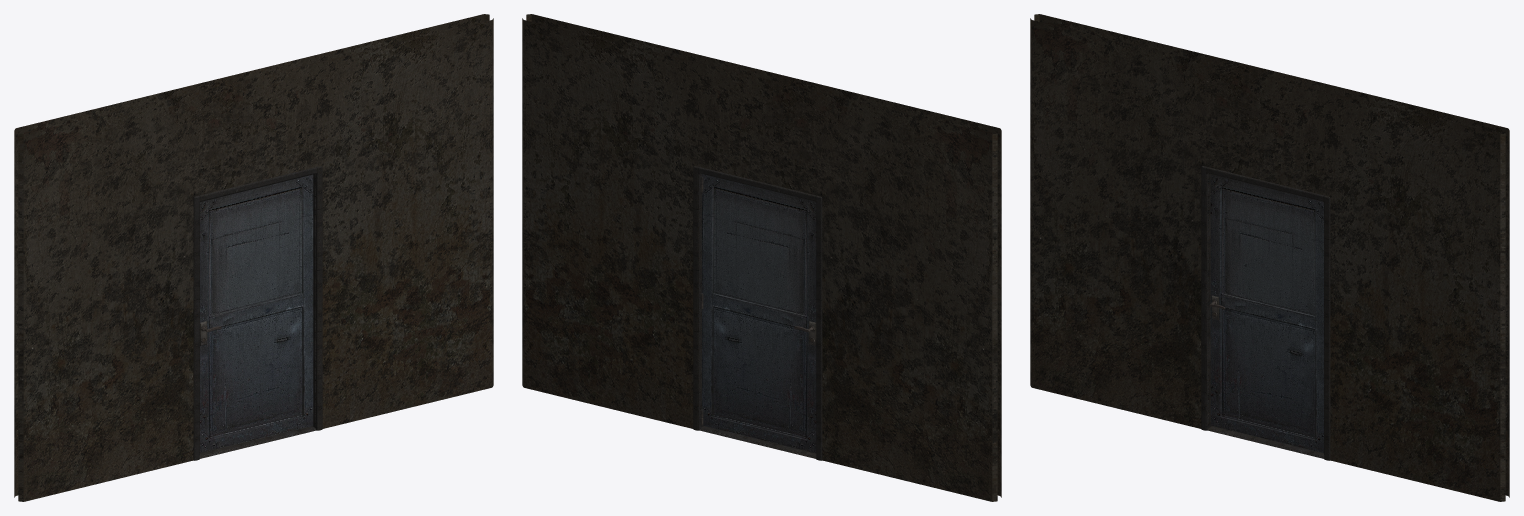
File: doorway_2_plain.glb
3 renders of one model, left to right at view 1: azimuth 30°, elevation 25°; view 2: azimuth 150°, elevation 25°; view 3: azimuth 330°, elevation 25°, orthographic.
Visible parts, largest first — view 1: doorway_2_plain, door_7; view 2: doorway_2_plain, door_7; view 3: doorway_2_plain, door_7.
Part boxes in pixels (x1,y1,x2,y2): doorway_2_plain: (14,14,493,501); door_7: (200,174,313,453); doorway_2_plain: (522,14,1001,501); door_7: (700,174,816,453); doorway_2_plain: (1030,14,1509,501); door_7: (1210,174,1323,453).
Size of the model in its own units: 4.06 by 3 by 0.194.
Materials: 6 (6 with a texture image).
